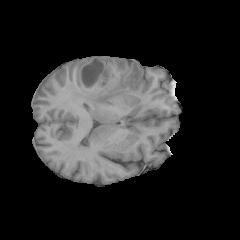glioma: (65, 56, 142, 108)
